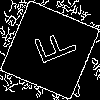F: (25, 25, 79, 70)
